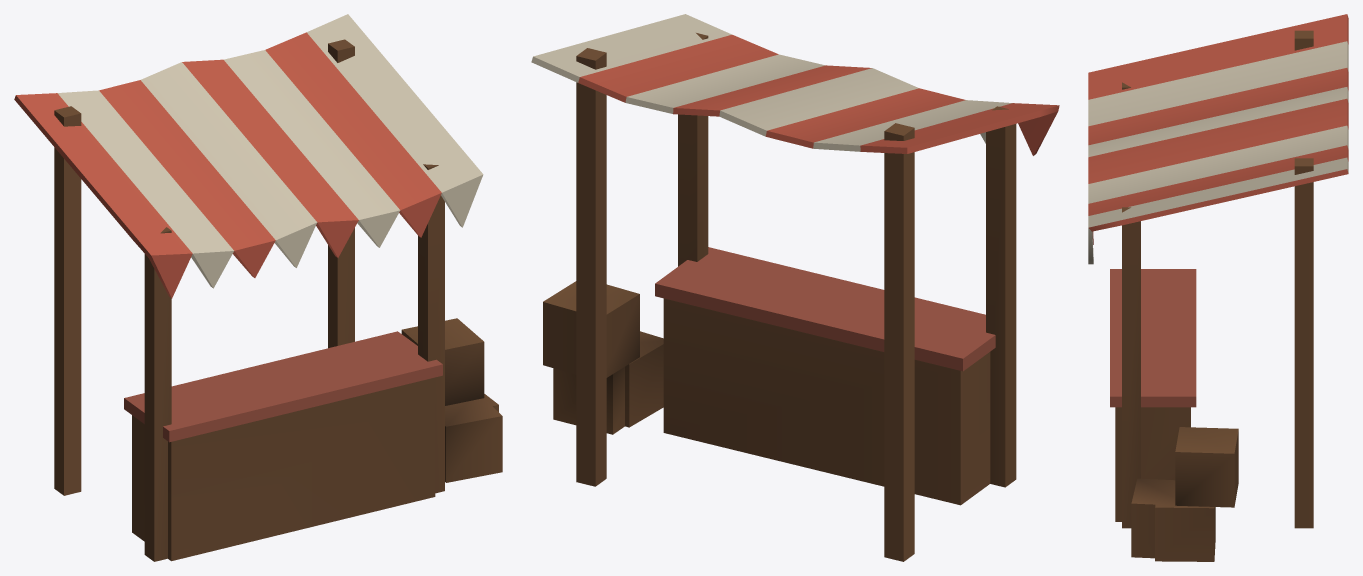
The model's file is StallCoral.glb.
3 renders of one model, left to right at view 1: azimuth 30°, elevation 25°; view 2: azimuth 150°, elevation 25°; view 3: azimuth 270°, elevation 25°, orthographic. The views are drawn at different scales.
Parts seen in each view (by area): view 1: Canopy.001, Frame.002; view 2: Frame.002, Canopy.001; view 3: Canopy.001, Frame.002.
Boxes of the visible parts, x1,y1,x2,y2 form: Canopy.001: (14, 14, 483, 442); Frame.002: (54, 39, 502, 561); Frame.002: (543, 33, 1016, 561); Canopy.001: (531, 14, 1059, 371); Canopy.001: (1088, 14, 1348, 407); Frame.002: (1115, 30, 1313, 561).
Size of the model in its own units: 7.87 by 7.55 by 4.82.
